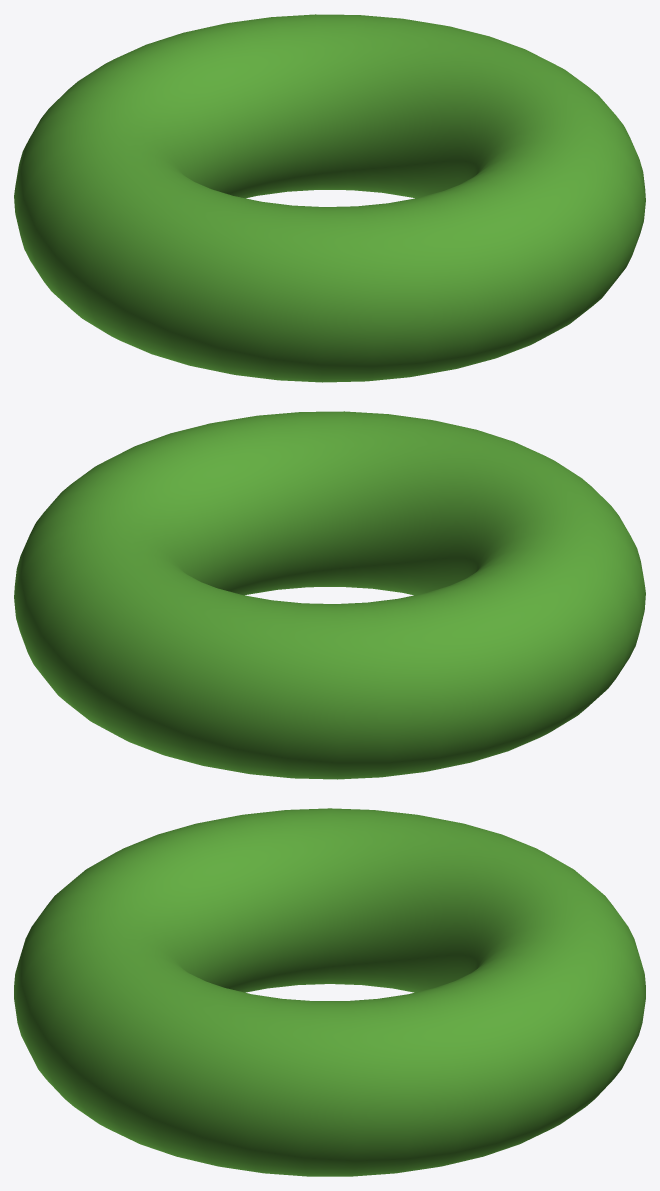
File: GreenRing.dae
3 renders of one model, top to bottom at view 1: azimuth 30°, elevation 25°; view 2: azimuth 150°, elevation 25°; view 3: azimuth 270°, elevation 25°, orthographic.
Parts seen in each view (by area): view 1: ID2; view 2: ID2; view 3: ID2.
Part boxes in pixels (x1,y1,x2,y2): ID2: (14,14,645,382); ID2: (14,411,645,779); ID2: (14,808,645,1176).
Bounding box in the file's own units: 0.1143 × 0.1142 × 0.0317.
